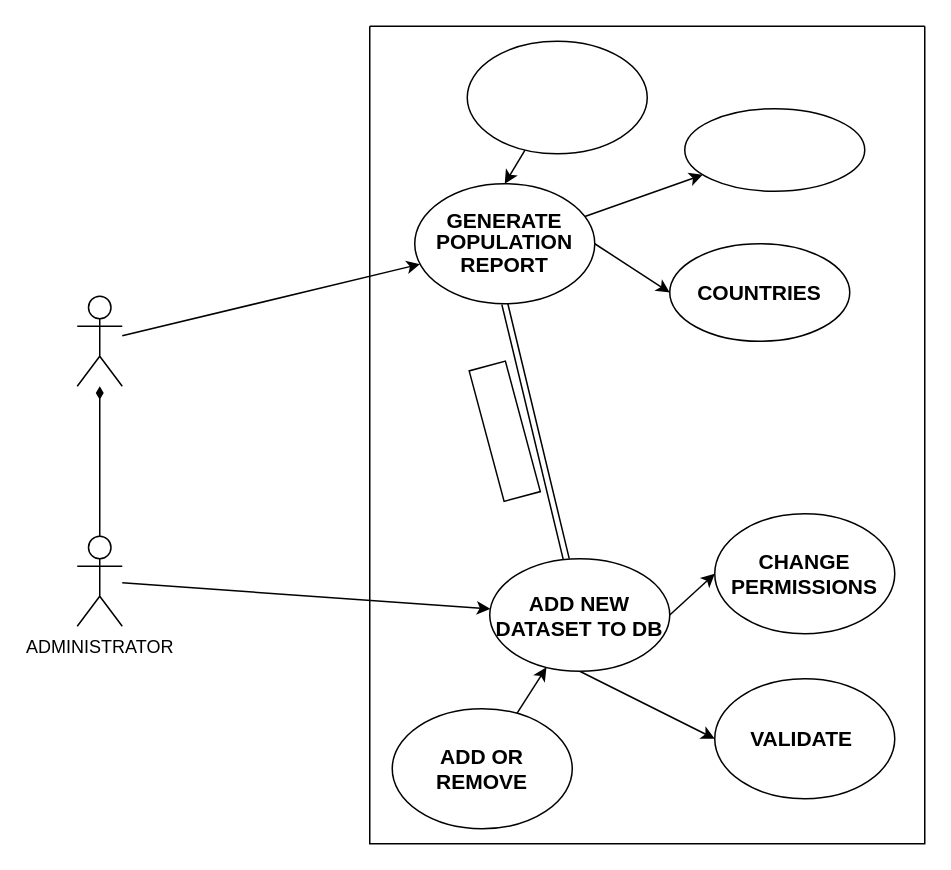
The diagram is 951 pixels wide and 870 high, and some of its shapes have lost their labels. Here are the shapes that lost their labels. From the top down, the centre of each, then its label:
(556,97): CITIES
(774,149): BOROUGHS
(99,340): USER
(504,430): INITIATES
